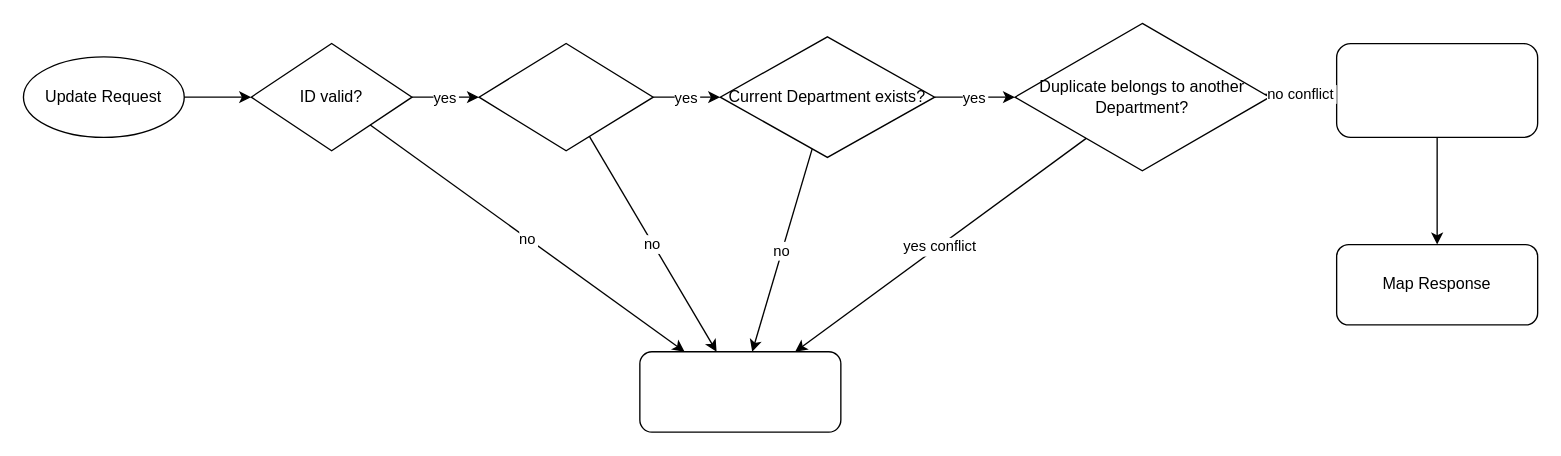
Some shapes in this 1561 by 456 pixel diagram are drawn without their labels. Each missing label, with the centre of its shape:
"Apply Changes + Save" goes at (1436,89).
"Controlled Error" goes at (740,391).
"Request valid?" goes at (565,96).
